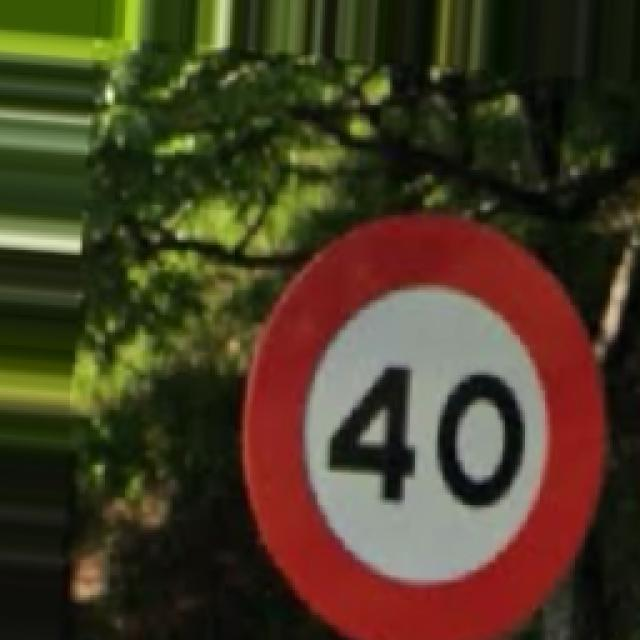Speed Limit -40-: (242, 215, 602, 635)
